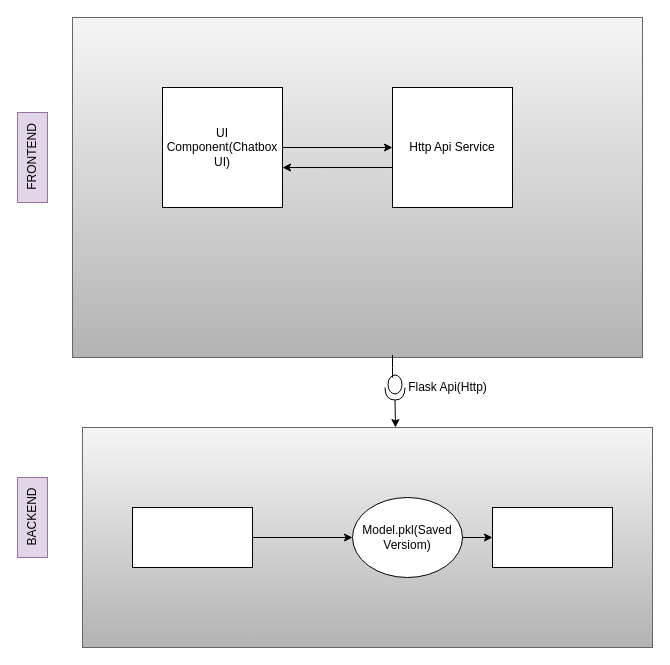
Some shapes in this 670 by 665 pixel diagram are drawn without their labels. Each missing label, with the centre of its shape:
"Model Prediction" goes at pixel 552 537.
"Model Training" goes at pixel 192 537.
